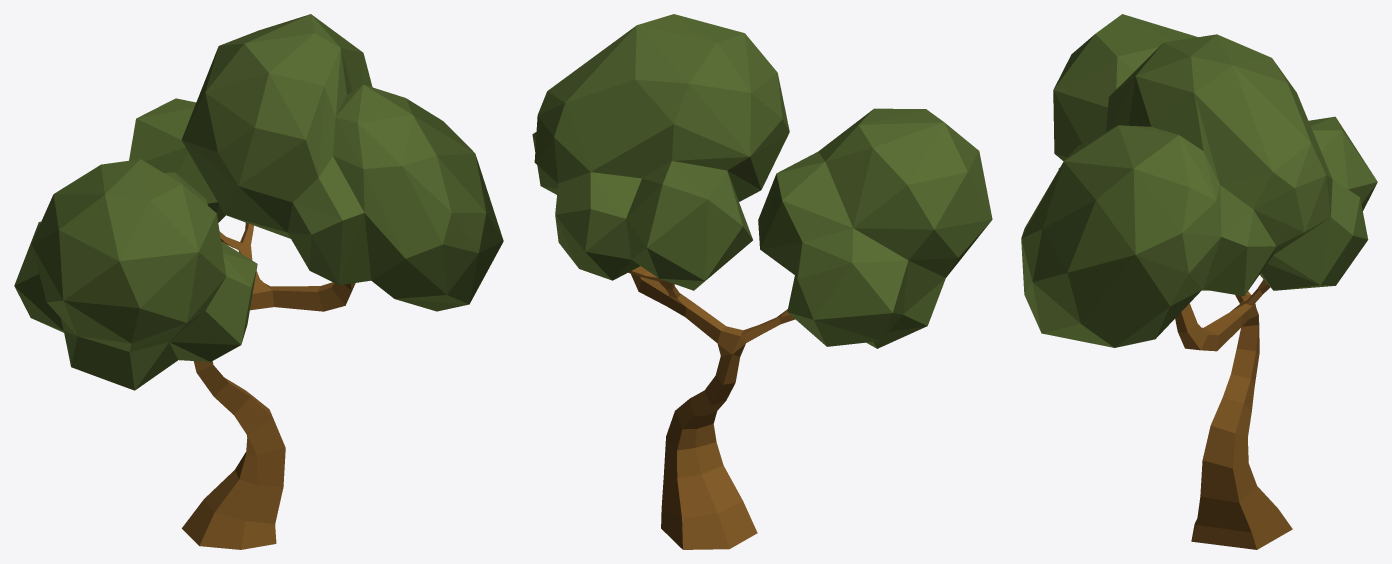
The model's file is tree01.fbx.
3 renders of one model, left to right at view 1: azimuth 30°, elevation 25°; view 2: azimuth 150°, elevation 25°; view 3: azimuth 270°, elevation 25°, orthographic. The views are drawn at different scales.
Parts seen in each view (by area): view 1: tree04; view 2: tree04; view 3: tree04.
Part boxes in pixels (x1,y1,x2,y2): tree04: (14, 14, 503, 549); tree04: (532, 14, 992, 549); tree04: (1021, 14, 1377, 549).
Size of the model in its own units: 29.42 by 32.65 by 20.94.
